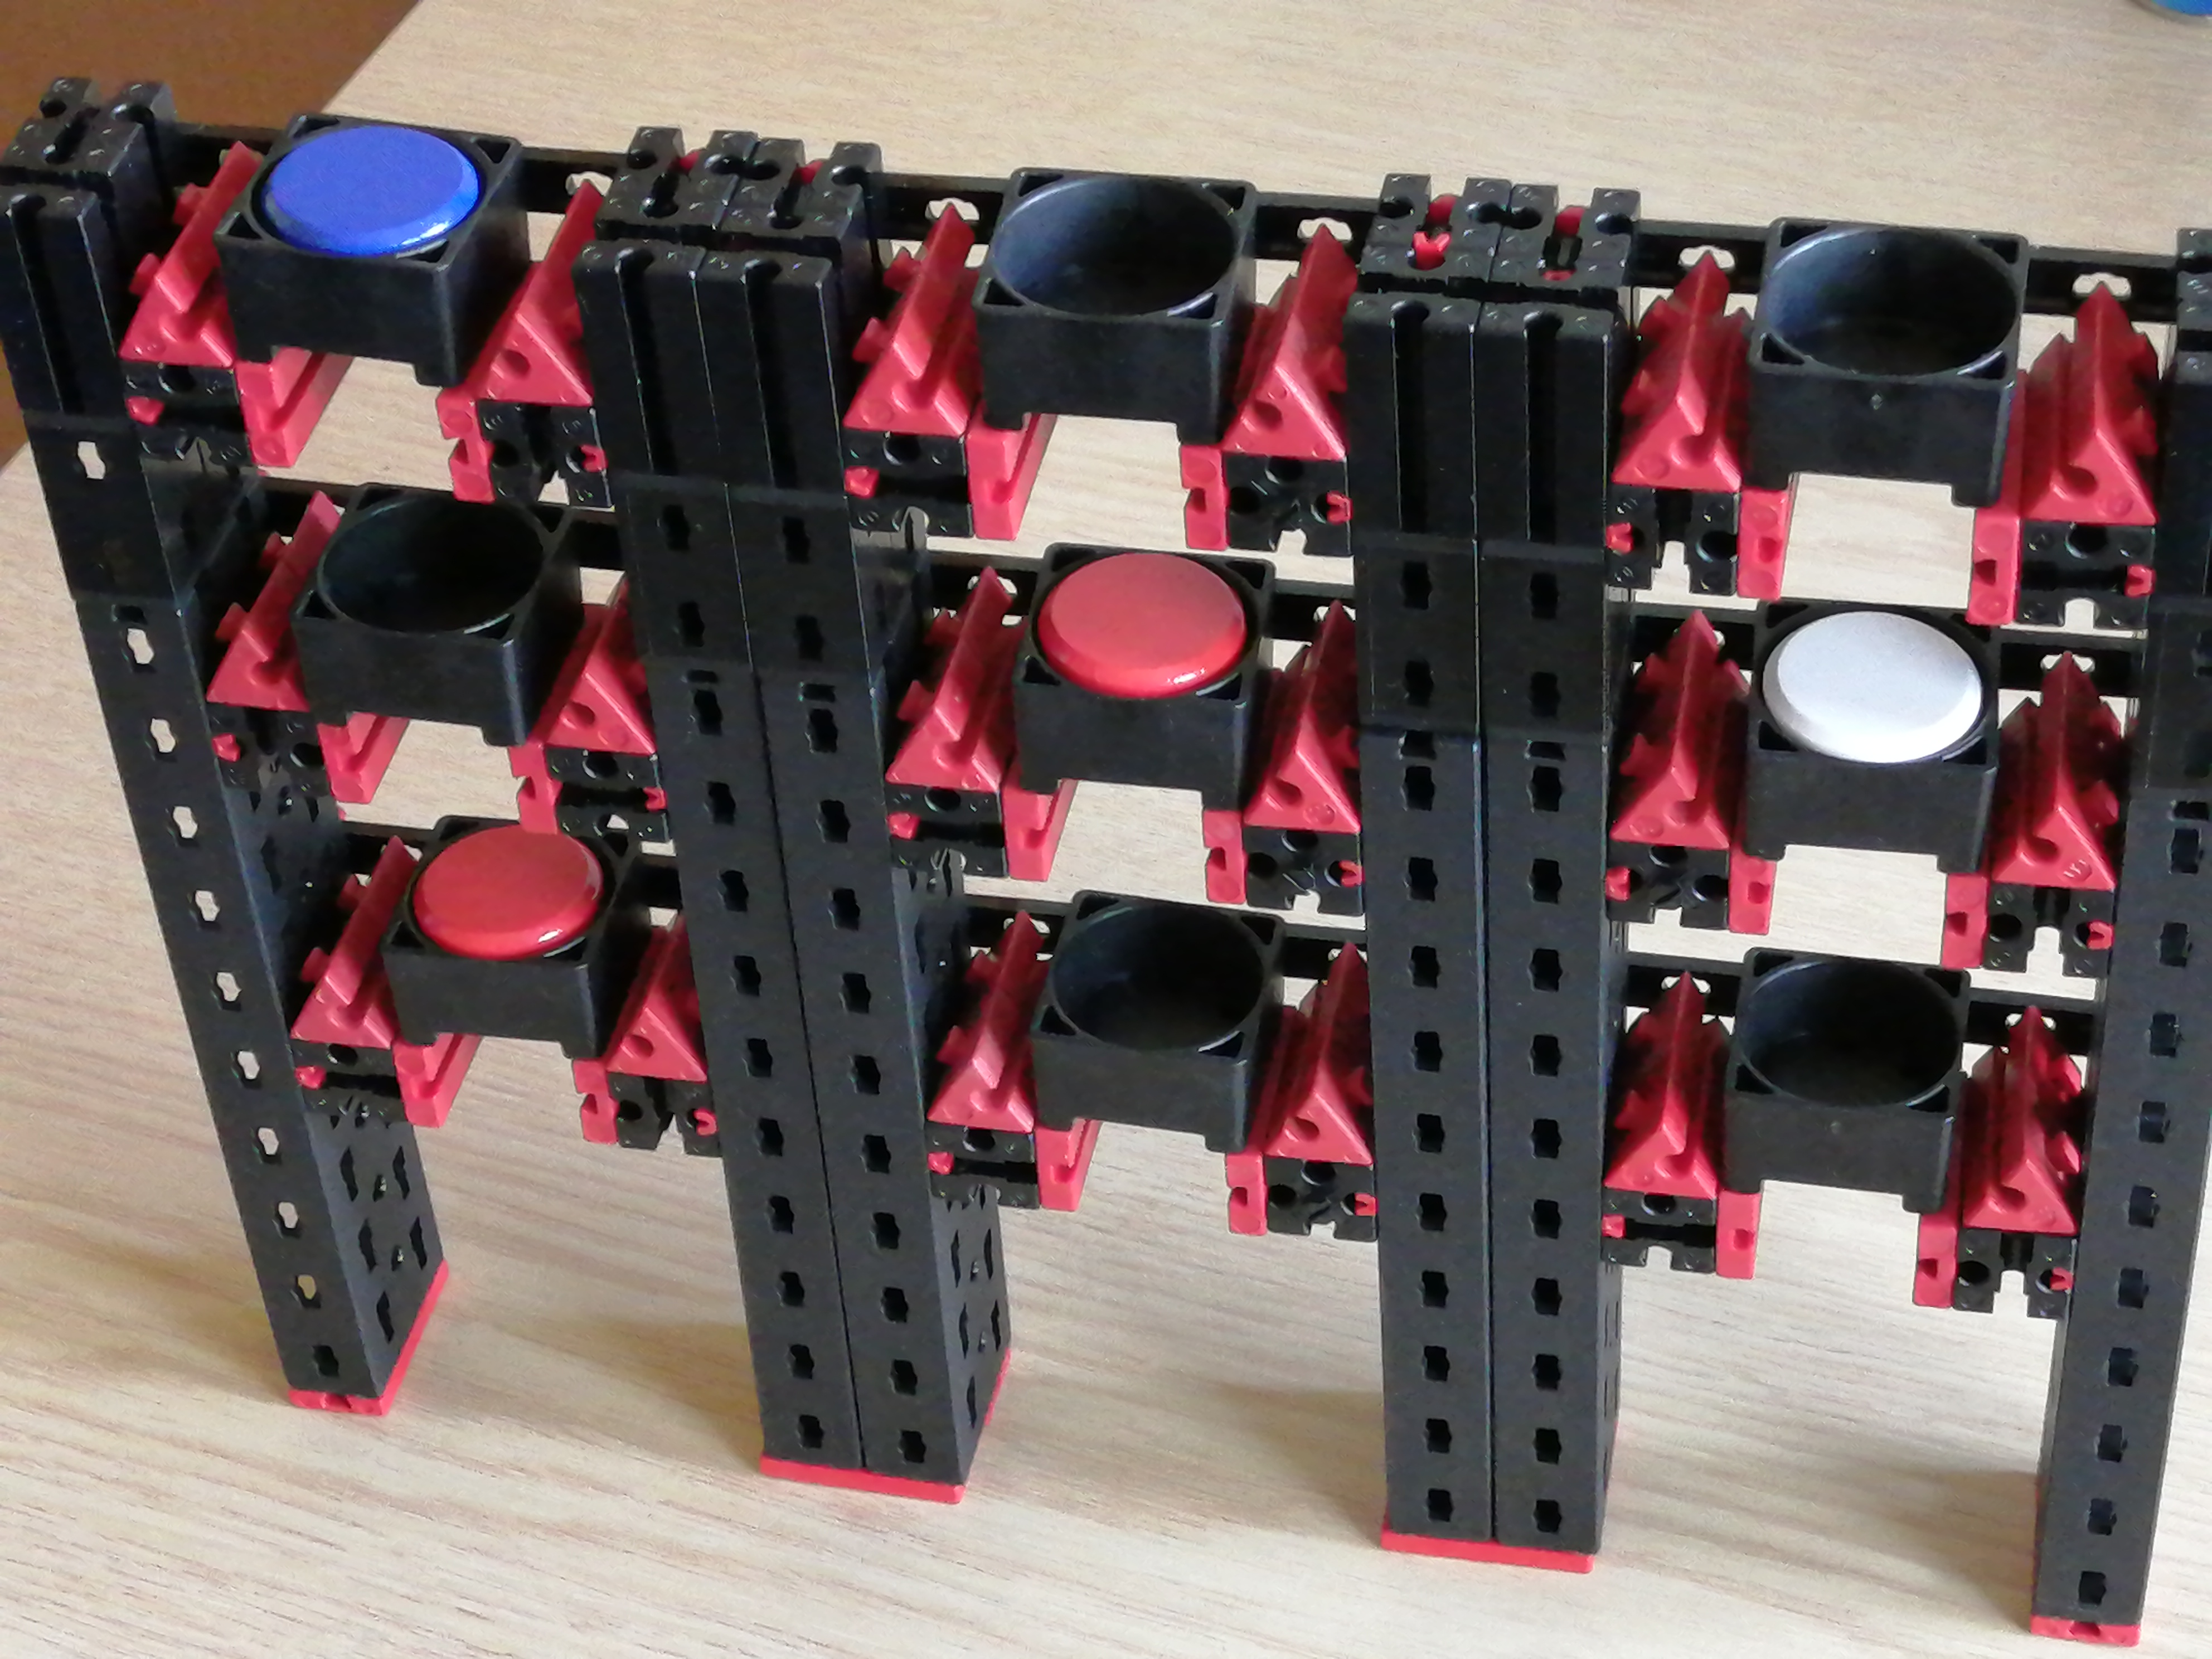Behaelter: (1750, 216, 2005, 495), (228, 117, 486, 368), (984, 167, 1228, 422), (303, 518, 564, 732), (1749, 601, 1975, 843), (1017, 551, 1237, 788), (1737, 967, 1959, 1194), (1057, 908, 1252, 1129), (408, 845, 604, 1044)
WerkStueck: (1771, 620, 1979, 772), (1047, 554, 1242, 699), (275, 122, 472, 263), (423, 836, 596, 950)
